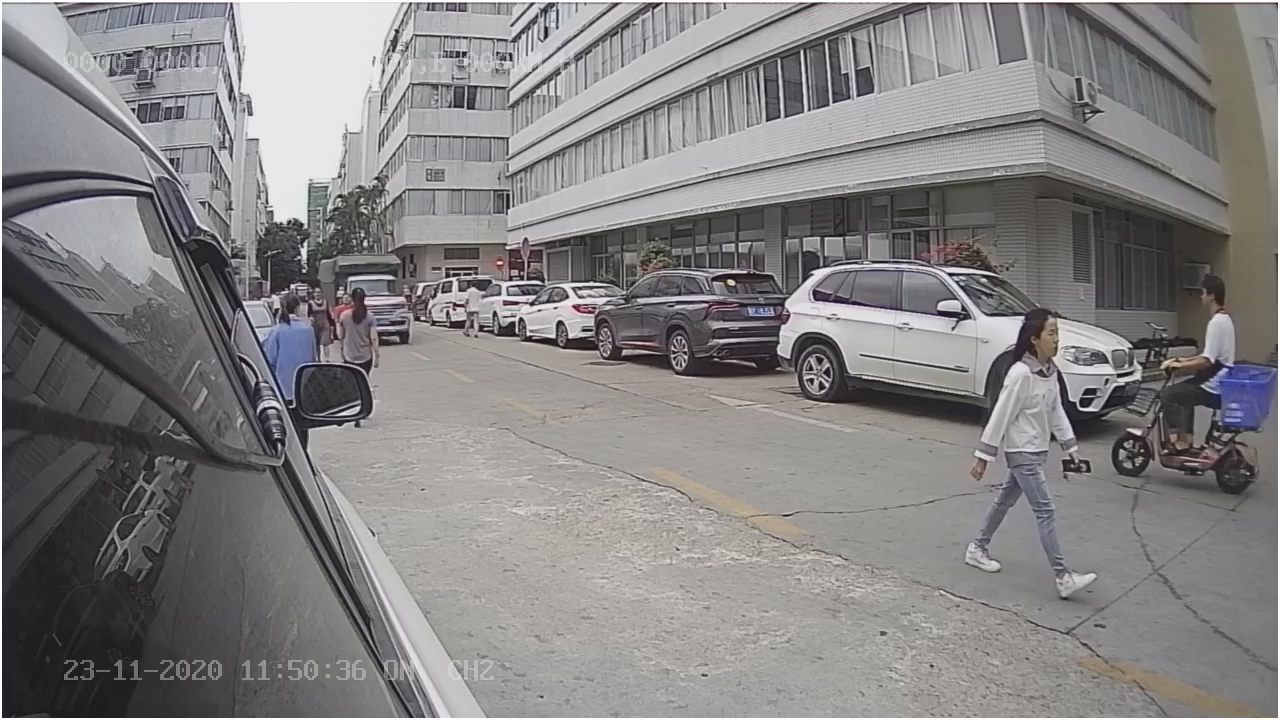person: (961, 295, 1093, 604), (1160, 273, 1235, 372)
